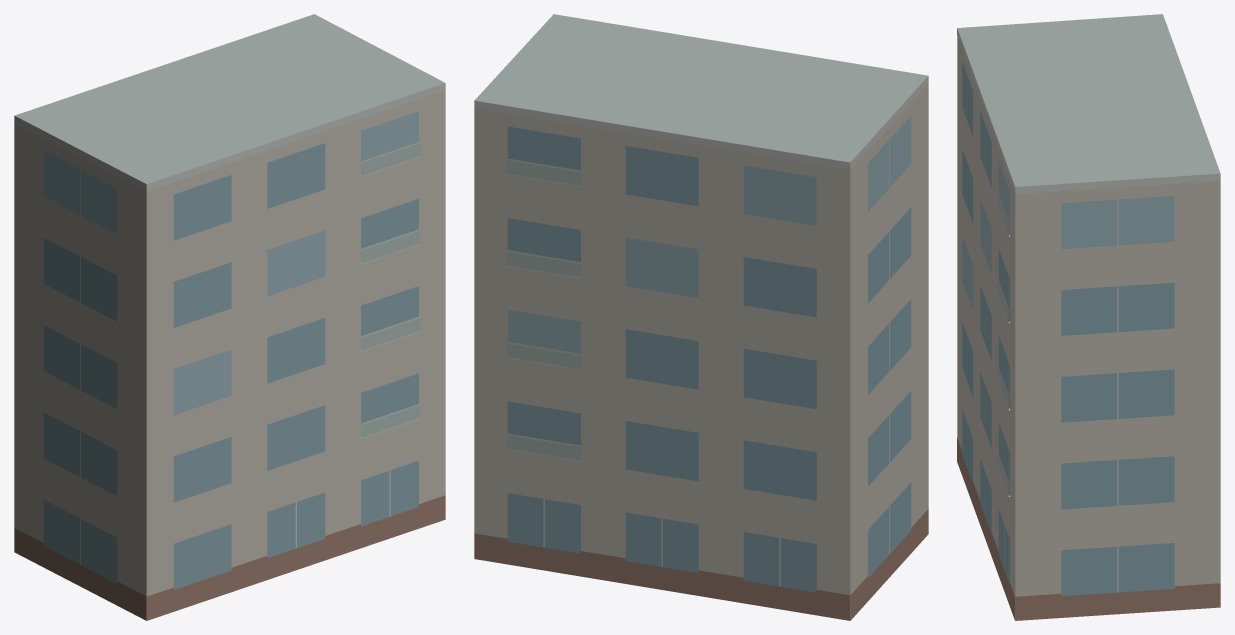
Rendered from survey-upis-32540596.glb.
3 renders of one model, left to right at view 1: azimuth 30°, elevation 25°; view 2: azimuth 150°, elevation 25°; view 3: azimuth 270°, elevation 25°, orthographic. The views are drawn at different scales.
Visible parts, largest first — view 1: survey-upis-32540596.tmp; view 2: survey-upis-32540596.tmp; view 3: survey-upis-32540596.tmp.
Part boxes in pixels (x1=…): survey-upis-32540596.tmp: x1=14, y1=14, x2=445, y2=620; survey-upis-32540596.tmp: x1=474, y1=14, x2=928, y2=620; survey-upis-32540596.tmp: x1=957, y1=14, x2=1220, y2=620.
Bounding box in the file's own units: 12.76 × 14.9 × 8.21.
